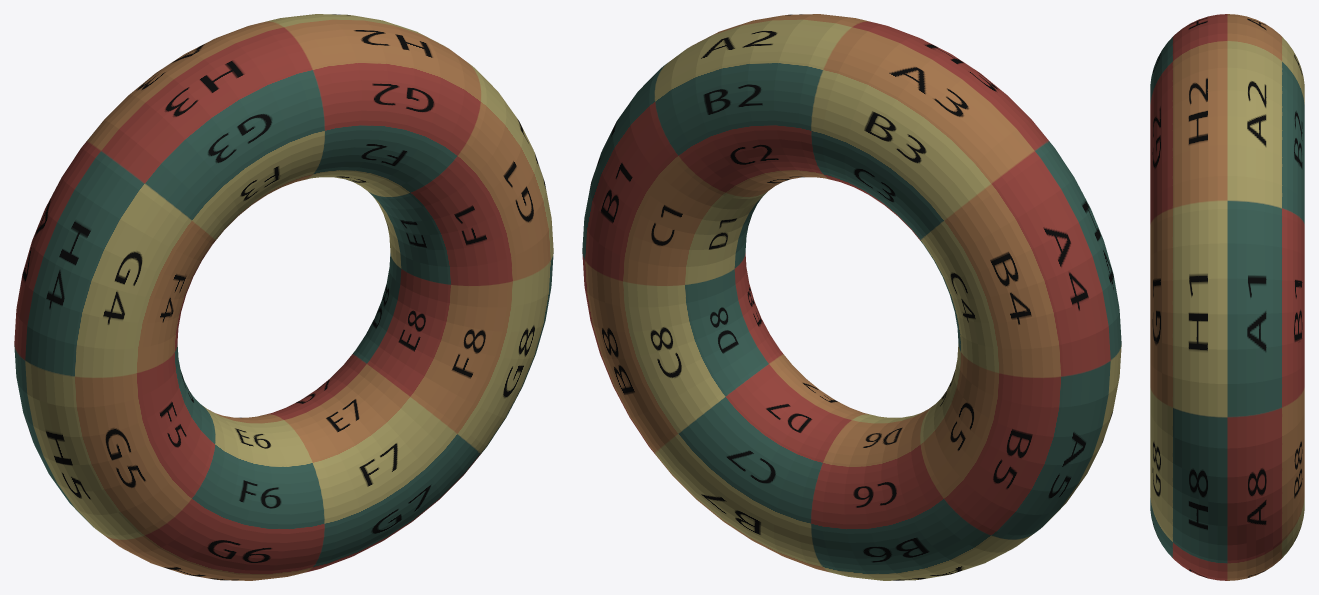
File: texture_torus_R10_r16.glb
The picture shows the model from 3 angles, left to right: view 1: azimuth 30°, elevation 25°; view 2: azimuth 150°, elevation 25°; view 3: azimuth 270°, elevation 25°; orthographic projection. The views are drawn at different scales.
Visible parts, largest first — view 1: world; view 2: world; view 3: world.
Boxes of the visible parts, box(x1,y1,x2,y2) form: world: box(14, 14, 553, 580); world: box(582, 14, 1121, 580); world: box(1150, 14, 1304, 580).
Size of the model in its own units: 22.93 by 22.89 by 6.25.
1 material, 1 textured.
